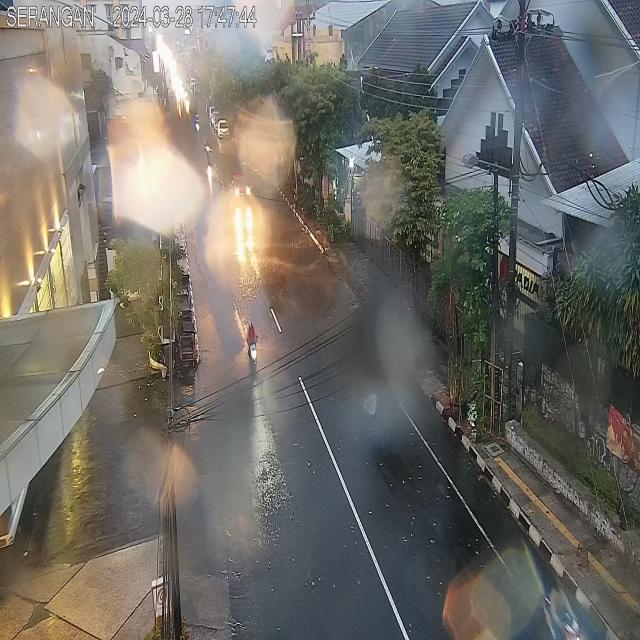motorcycle: (245, 319, 261, 376)
